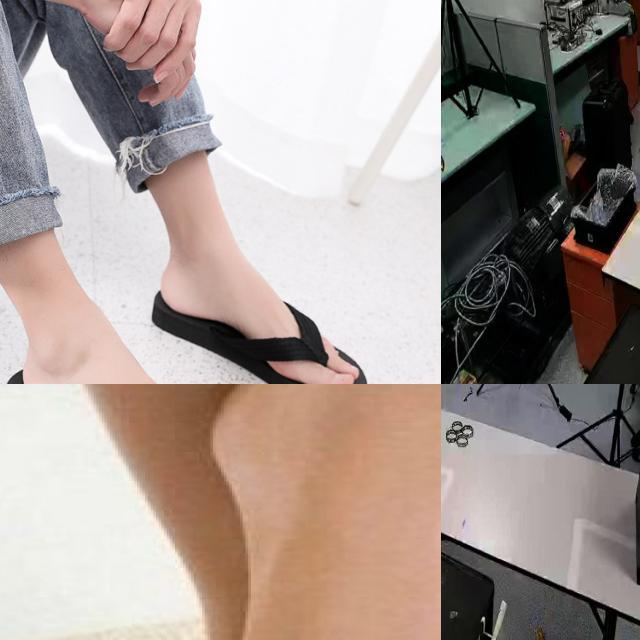Barefoots: (219, 398, 441, 640)
Sandals: (152, 271, 375, 384)
